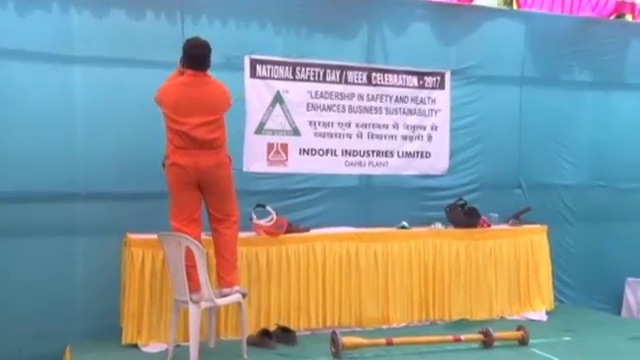helmet_off: (177, 36, 213, 73)
person: (156, 36, 252, 299)
